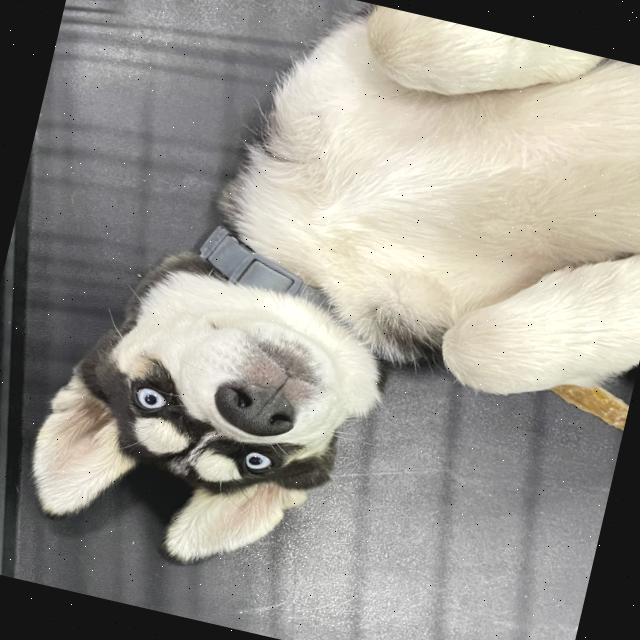siberian_husky_dog: (0, 237, 428, 618)
